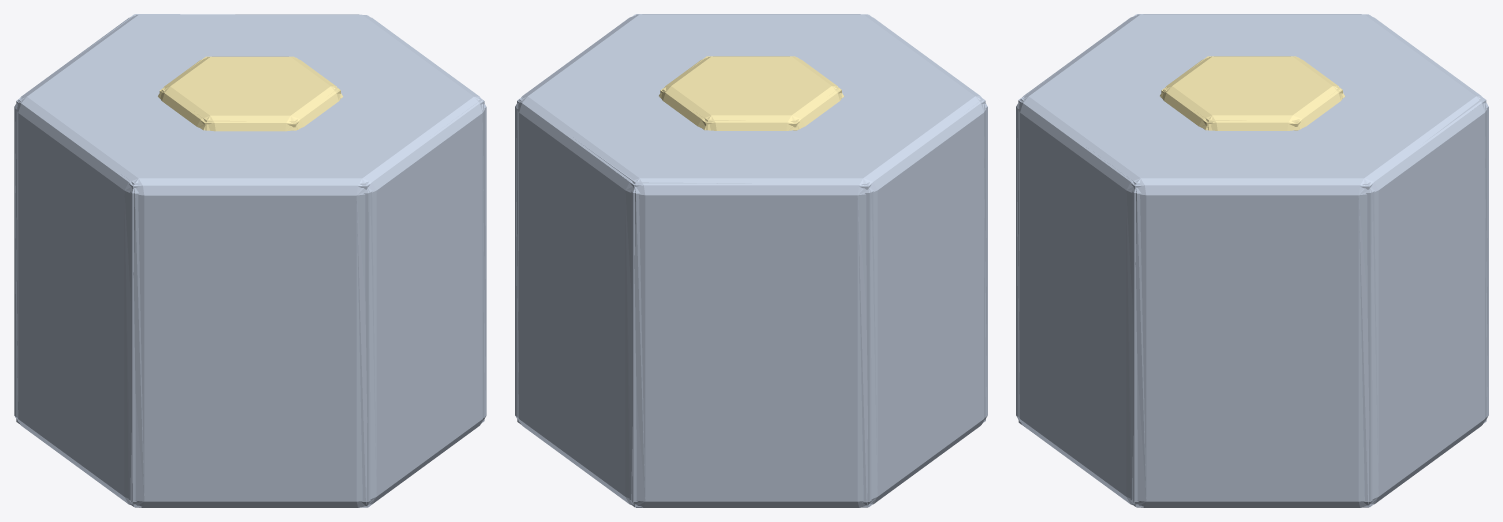
File: SM_Shielded.fbx
3 views of the same model, side by side, from view 1: azimuth 30°, elevation 25°; view 2: azimuth 150°, elevation 25°; view 3: azimuth 270°, elevation 25° (orthographic).
Visible parts, largest first — view 1: SM_Shielded, LOD1_SM_Shielded, LOD2_SM_Shielded; view 2: SM_Shielded, LOD1_SM_Shielded, LOD2_SM_Shielded; view 3: SM_Shielded, LOD1_SM_Shielded, LOD2_SM_Shielded.
Part boxes in pixels (left/top/right/bottom): SM_Shielded: left=15, top=14, right=484, bottom=507; LOD1_SM_Shielded: left=15, top=14, right=485, bottom=507; LOD2_SM_Shielded: left=14, top=14, right=486, bottom=507; SM_Shielded: left=516, top=14, right=986, bottom=507; LOD1_SM_Shielded: left=516, top=14, right=986, bottom=505; LOD2_SM_Shielded: left=515, top=14, right=987, bottom=507; SM_Shielded: left=1017, top=14, right=1487, bottom=507; LOD1_SM_Shielded: left=1017, top=14, right=1487, bottom=507; LOD2_SM_Shielded: left=1016, top=14, right=1488, bottom=507.
Size of the model in its own units: 0.3118 by 0.2907 by 0.356.
